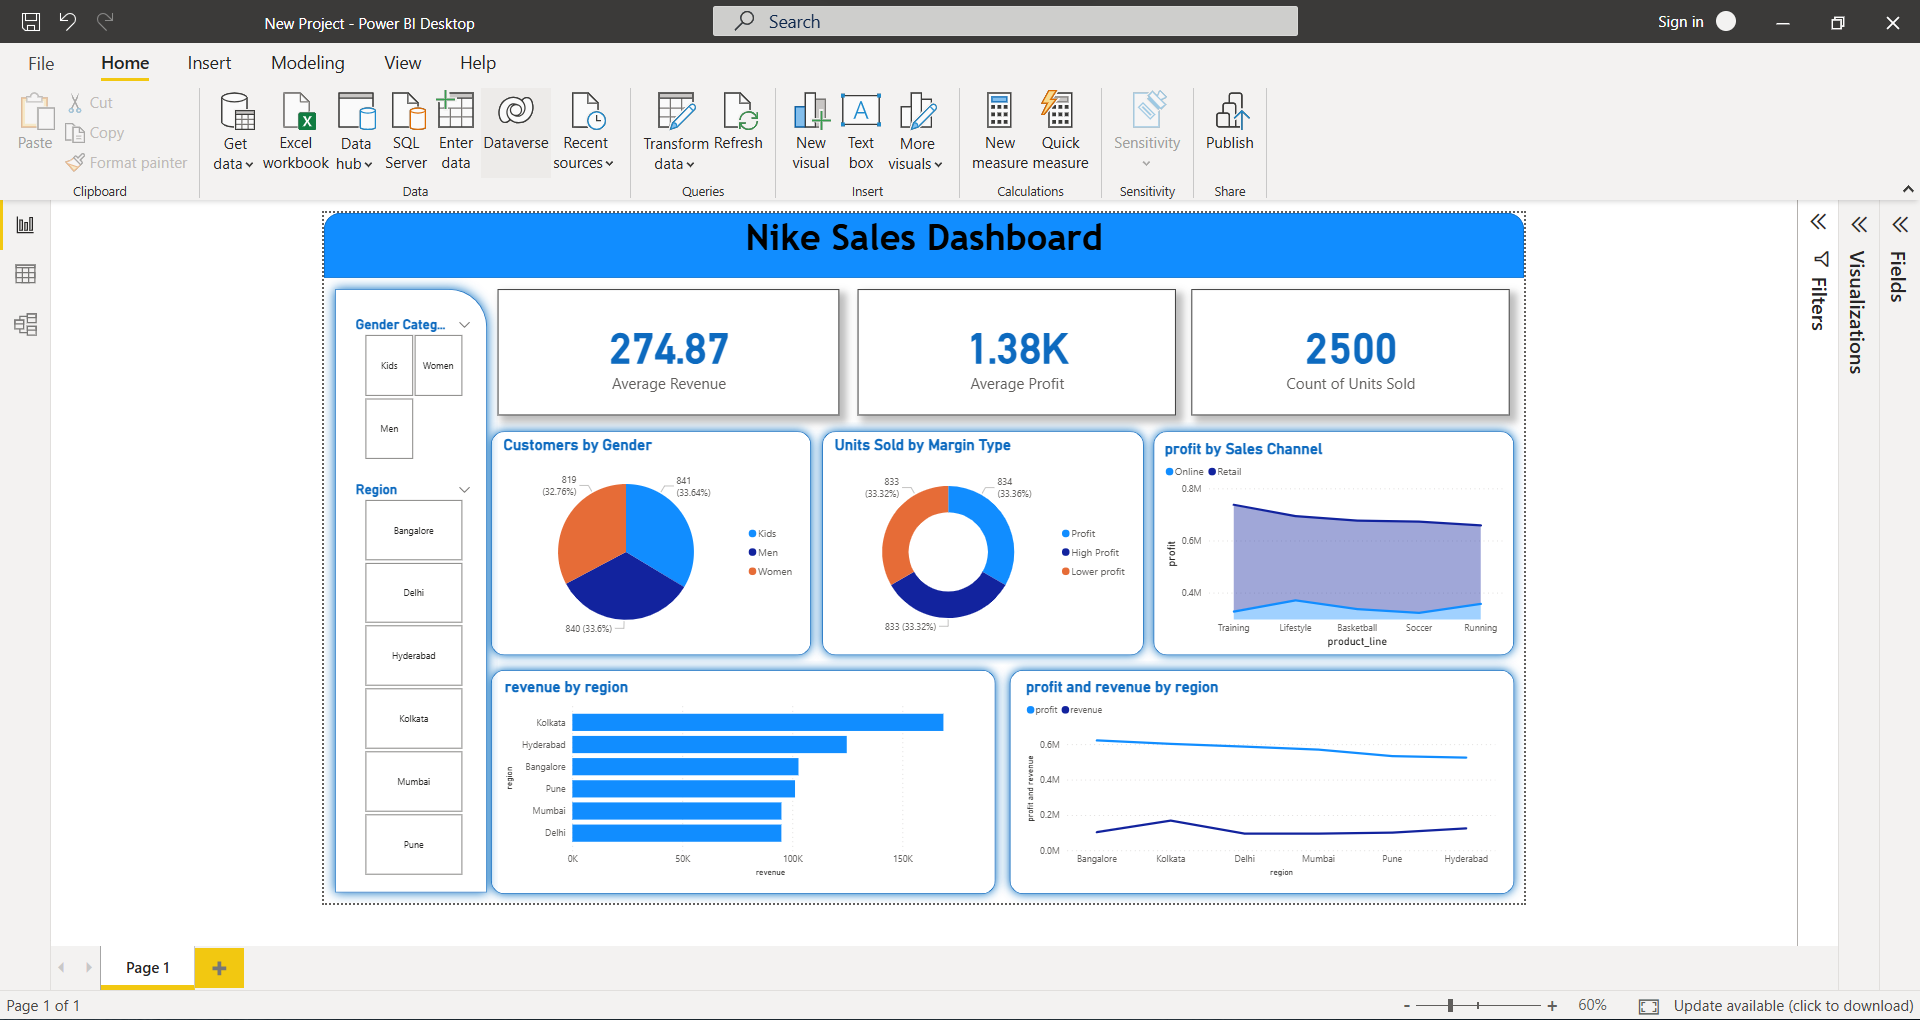

The dashboard page shown, as its layout file describes it:
{"tool":"powerbi","page":{"name":"Page 1","canvas":[1600,920],"ordinal":0},"visuals":[{"type":"group","id":"g1","title":"Group 1","box":[232,102,1350,168],"z":0},{"type":"card","fields":{"Values":["public customer.Count of Units Sold"]},"box":[1157.7,102,424.3,168],"z":0,"group":"g1"},{"type":"shape","box":[0,0,1600,86.7],"z":1000},{"type":"card","fields":{"Values":["public customer.Average Revenue"]},"box":[232,102,455.5,168],"z":1000,"group":"g1"},{"type":"textbox","box":[183.3,0,1233.3,83.3],"z":2000},{"type":"card","fields":{"Values":["public customer.Average Profit"]},"box":[712.5,102,424.3,168],"z":2000,"group":"g1"},{"type":"shape","box":[210,278,452,324],"z":3000},{"type":"pieChart","title":"Customers by Gender","fields":{"Y":["public customer.Number of customers"],"Category":["public customer.gender_category"]},"box":[232,294,408,292],"z":4000},{"type":"shape","box":[652,278,454,324],"z":5000},{"type":"shape","box":[1094,278,506,324],"z":6000},{"type":"donutChart","title":"Units Sold by Margin Type","fields":{"Y":["public customer.Count of Units Sold"],"Category":["public customer.margin_type"]},"box":[674,294,410,292],"z":7000},{"type":"stackedAreaChart","title":"profit by Sales Channel","fields":{"Category":["public customer.product_line"],"Y":["Sum(public customer.profit)"],"Series":["public customer.sales_channel"]},"box":[1114,298,468,288],"z":8000},{"type":"shape","box":[210,596,698,324],"z":9000},{"type":"clusteredBarChart","fields":{"Category":["public customer.region"],"Y":["Sum(public customer.revenue)"]},"box":[234,616,646,274],"z":10000},{"type":"shape","box":[902,596,698,324],"z":11000},{"type":"lineChart","fields":{"Category":["public customer.region"],"Y":["Sum(public customer.profit)","Sum(public customer.revenue)"]},"box":[928,616,640,274],"z":12000},{"type":"shape","box":[0,86,232,834],"z":13000},{"type":"slicer","fields":{"Values":["public customer.gender_category"]},"box":[26,130,184,206],"z":14000},{"type":"slicer","fields":{"Values":["public customer.region"]},"box":[26,350,184,540],"z":14001}]}

Visuals, with their boxes on the page's 1600x920 design canvas (x1, y1, x2, y2). These are canvas units, not pixel positions in the 1920x1020 screenshot, which may show the page scaled, cropped or inside an application window:
"Group 1" group: <region>232, 102, 1582, 270</region>
card - public customer.Count of Units Sold: <region>1158, 102, 1582, 270</region>
shape: <region>0, 0, 1600, 87</region>
card - public customer.Average Revenue: <region>232, 102, 688, 270</region>
textbox: <region>183, 0, 1417, 83</region>
card - public customer.Average Profit: <region>712, 102, 1137, 270</region>
shape: <region>210, 278, 662, 602</region>
"Customers by Gender" pieChart: <region>232, 294, 640, 586</region>
shape: <region>652, 278, 1106, 602</region>
shape: <region>1094, 278, 1600, 602</region>
"Units Sold by Margin Type" donutChart: <region>674, 294, 1084, 586</region>
"profit by Sales Channel" stackedAreaChart: <region>1114, 298, 1582, 586</region>
shape: <region>210, 596, 908, 920</region>
clusteredBarChart - public customer.region x Sum(public customer.revenue): <region>234, 616, 880, 890</region>
shape: <region>902, 596, 1600, 920</region>
lineChart - public customer.region x Sum(public customer.profit): <region>928, 616, 1568, 890</region>
shape: <region>0, 86, 232, 920</region>
slicer - public customer.gender_category: <region>26, 130, 210, 336</region>
slicer - public customer.region: <region>26, 350, 210, 890</region>
